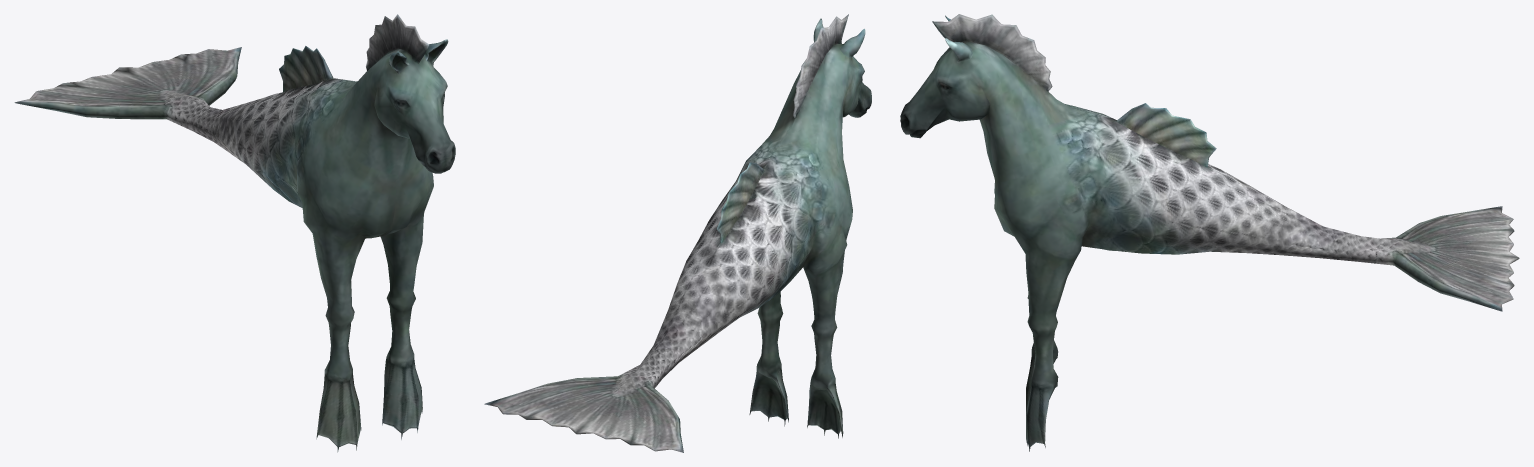
File: 207-hippocampus.glb
The picture shows the model from 3 angles, left to right: view 1: azimuth 30°, elevation 25°; view 2: azimuth 150°, elevation 25°; view 3: azimuth 270°, elevation 25°; orthographic projection. The views are drawn at different scales.
Bounding box in the file's own units: 1.98 × 3.72 × 4.94.
Materials: 1 (1 with a texture image).
